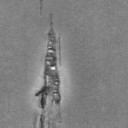slag inclusion: (34, 12, 62, 110), (39, 114, 45, 128), (39, 0, 44, 16)
